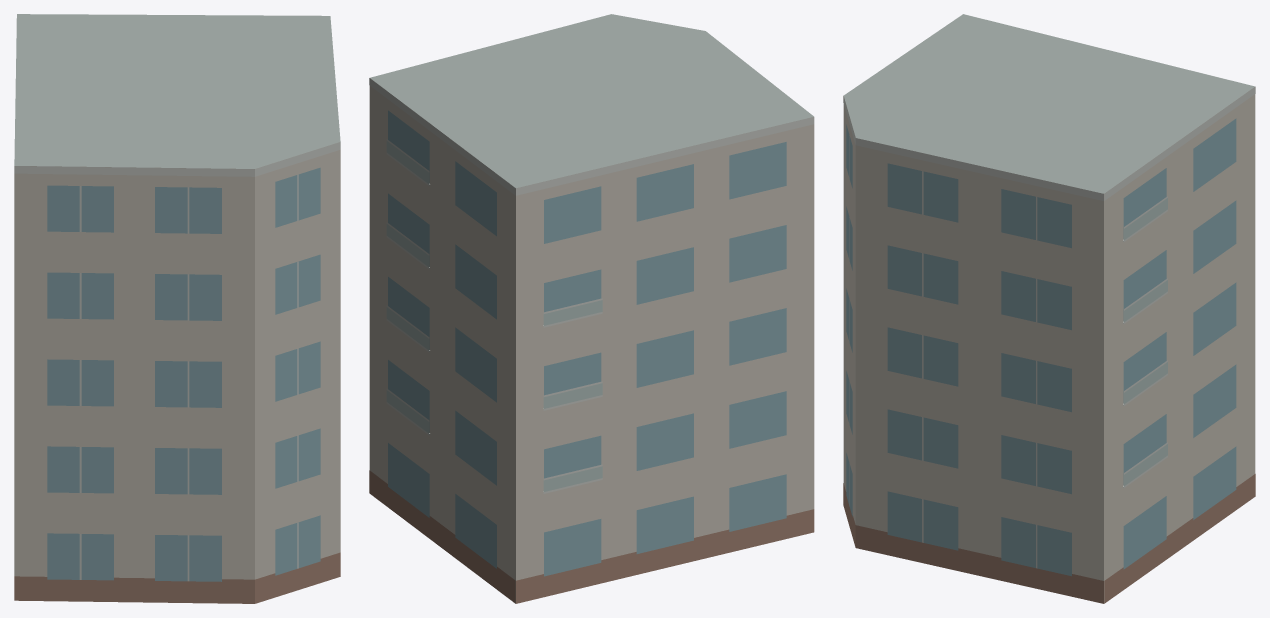
The model's file is survey-upis-32976770.glb.
The picture shows the model from 3 angles, left to right: view 1: azimuth 30°, elevation 25°; view 2: azimuth 150°, elevation 25°; view 3: azimuth 270°, elevation 25°; orthographic projection. The views are drawn at different scales.
Visible parts, largest first — view 1: survey-upis-32976770.tmp; view 2: survey-upis-32976770.tmp; view 3: survey-upis-32976770.tmp.
Boxes of the visible parts, x1,y1,x2,y2 form: survey-upis-32976770.tmp: [14, 14, 340, 603]; survey-upis-32976770.tmp: [369, 14, 814, 603]; survey-upis-32976770.tmp: [843, 14, 1255, 603].
Bounding box in the file's own units: 12.75 × 13.55 × 12.34.
